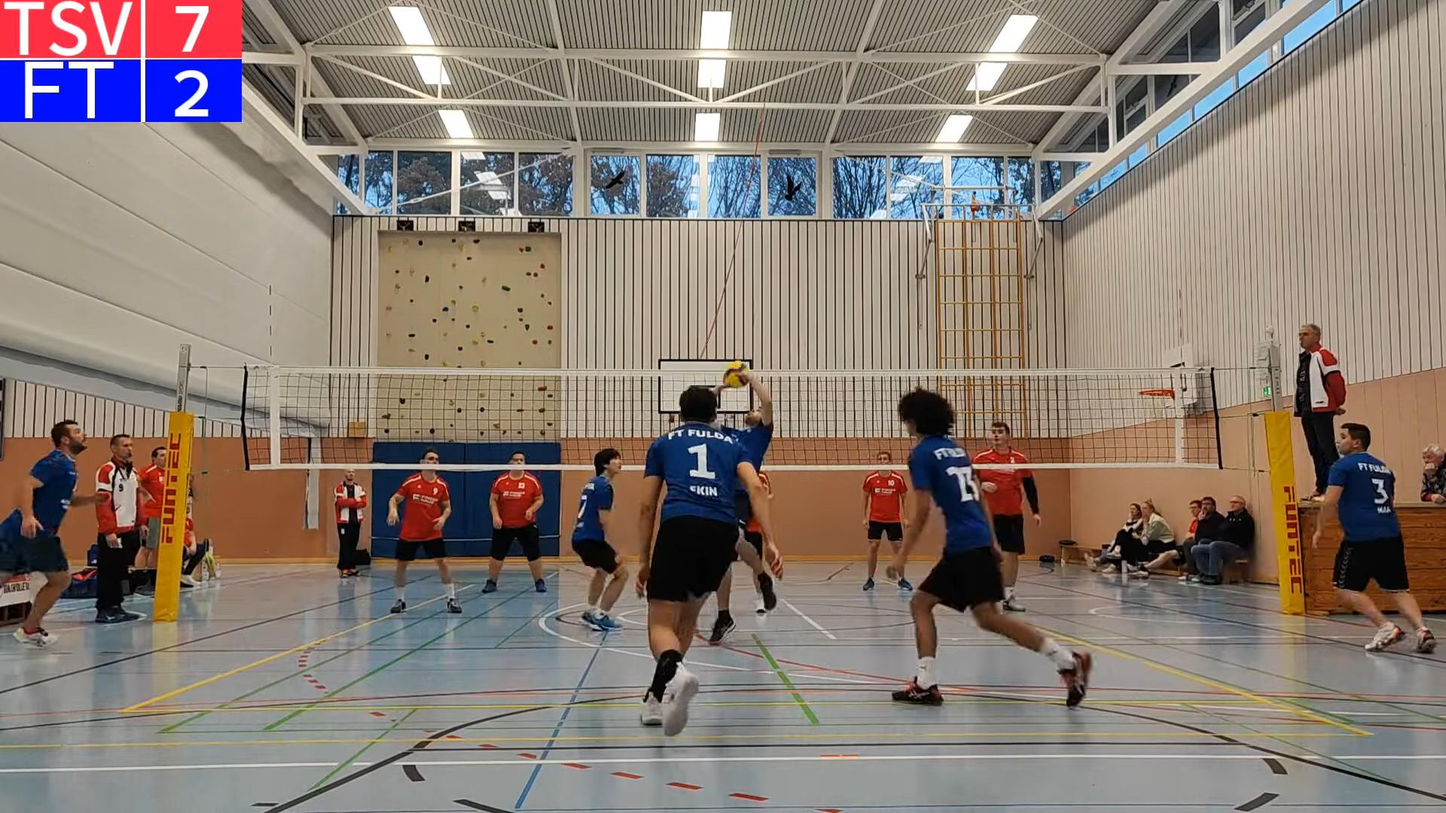Player: (893, 388, 1091, 706), (637, 386, 772, 735), (1313, 423, 1435, 653), (0, 420, 97, 647), (972, 421, 1041, 611), (387, 449, 461, 613), (572, 448, 628, 631), (483, 451, 546, 592), (862, 451, 912, 590), (734, 483, 776, 611), (744, 516, 767, 562)
Set: (706, 364, 780, 645)
ball: (721, 363, 751, 394)
